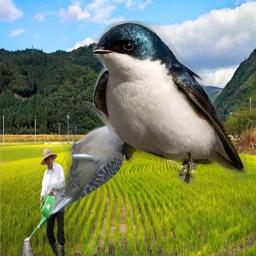Swallow: (93, 21, 248, 185)
Woodpecker: (47, 101, 131, 217)
